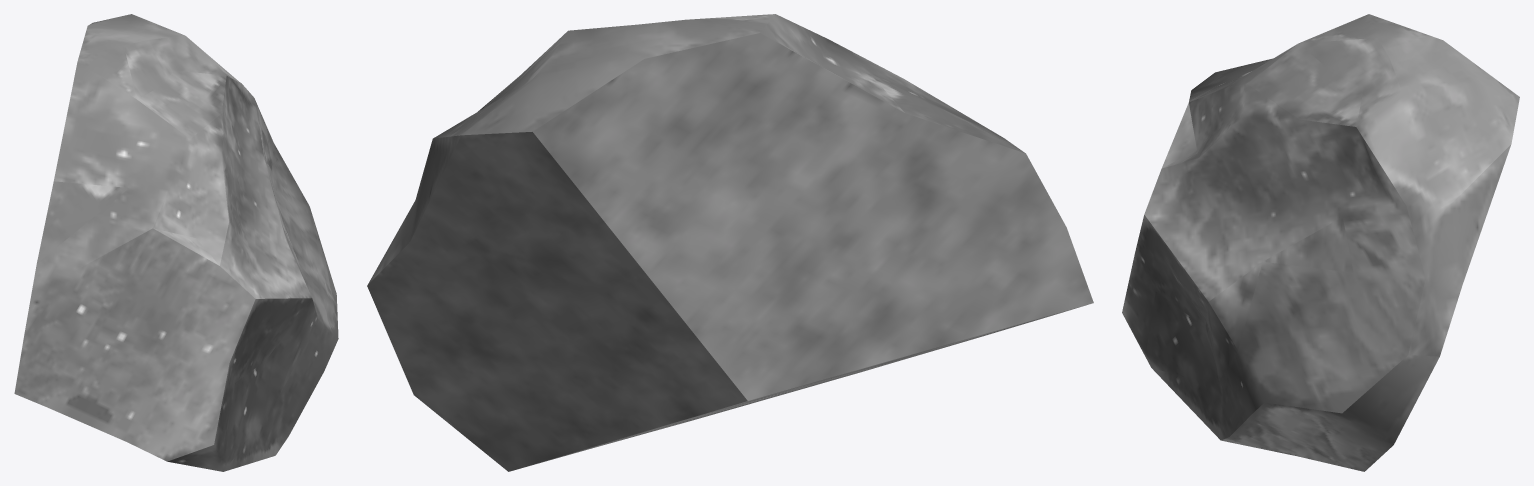
The model's file is frag_04.glb.
3 renders of one model, left to right at view 1: azimuth 30°, elevation 25°; view 2: azimuth 150°, elevation 25°; view 3: azimuth 270°, elevation 25°, orthographic. The views are drawn at different scales.
Parts seen in each view (by area): view 1: frag_04; view 2: frag_04; view 3: frag_04.
Boxes of the visible parts, bbox=[...] form: frag_04: bbox=[14, 14, 338, 471]; frag_04: bbox=[367, 14, 1093, 471]; frag_04: bbox=[1122, 14, 1519, 471].
Size of the model in its own units: 1.71 by 1.48 by 1.45.
1 material, 1 textured.
